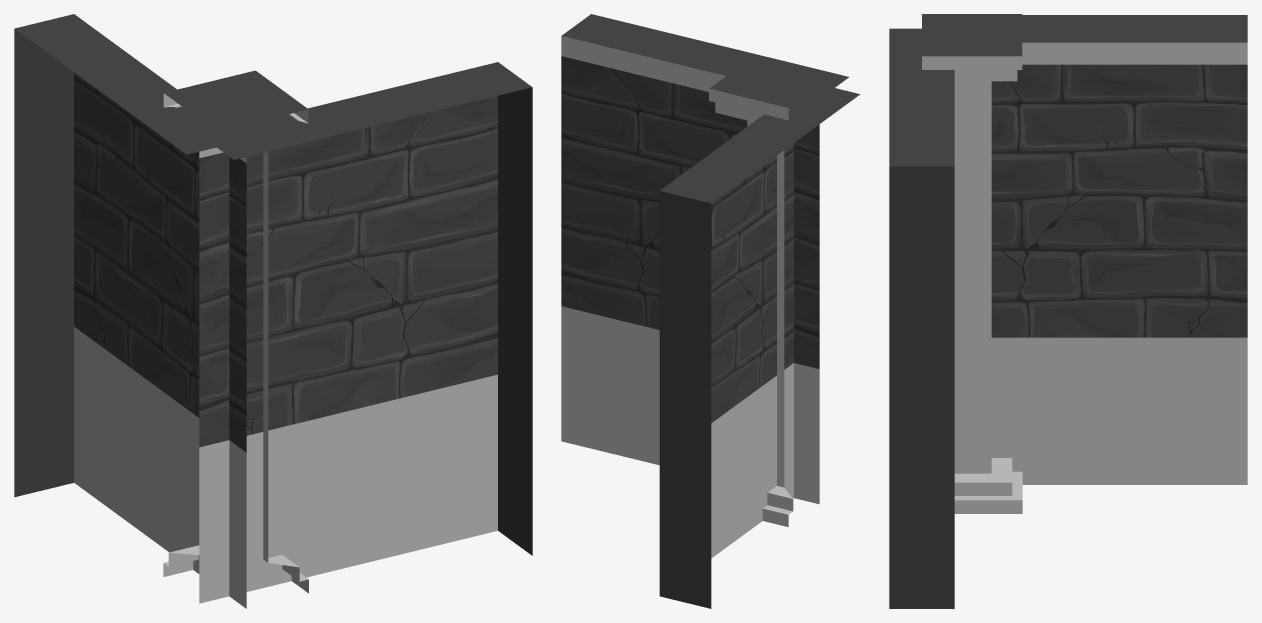
File: SM_ModularKit_WallCorner.fbx
The picture shows the model from 3 angles, left to right: view 1: azimuth 30°, elevation 25°; view 2: azimuth 150°, elevation 25°; view 3: azimuth 270°, elevation 25°; orthographic projection. The views are drawn at different scales.
Parts seen in each view (by area): view 1: WallCorner; view 2: WallCorner; view 3: WallCorner.
Boxes of the visible parts, x1=… form: WallCorner: x1=14, y1=14, x2=532, y2=608; WallCorner: x1=561, y1=14, x2=860, y2=608; WallCorner: x1=889, y1=14, x2=1247, y2=608.
Size of the model in its own units: 220 by 310 by 220.
